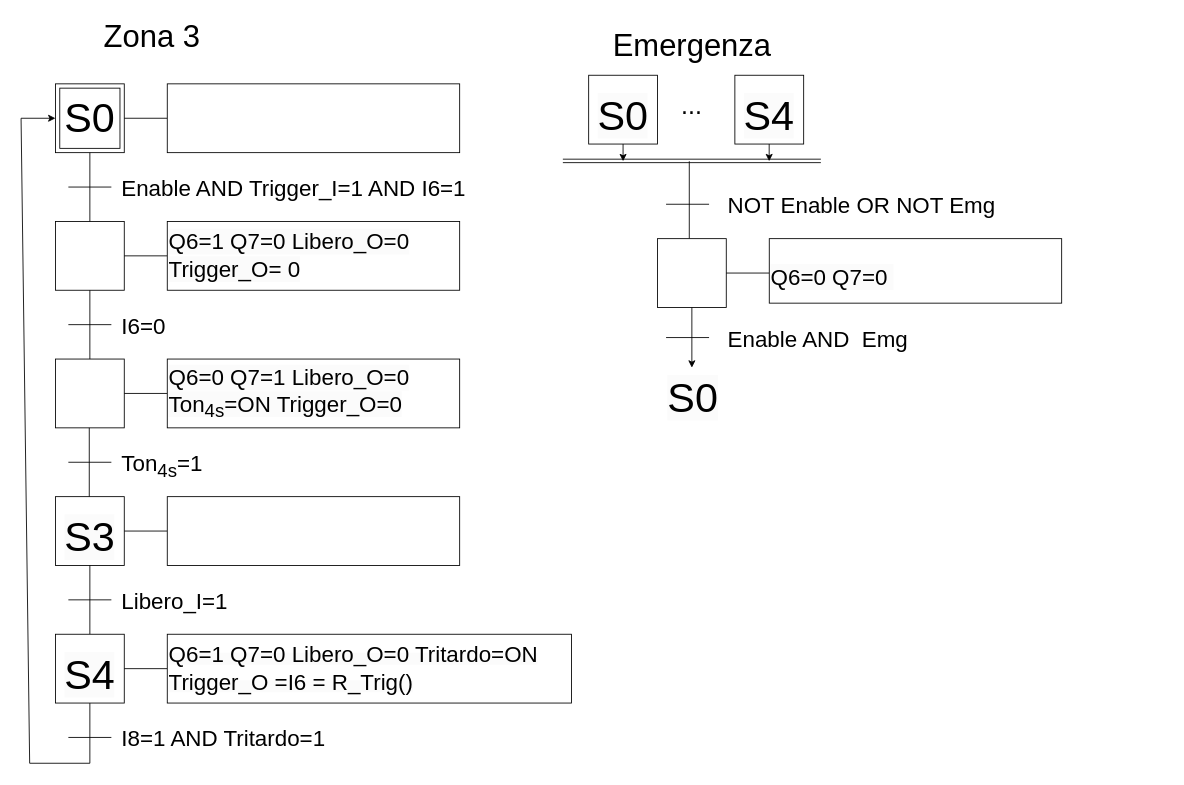
This 1184x785 diagram has some shape labels left out. The shapes that lost their labels are listed below. From the top down, each one's box as (x1, y1, x2, y2) in pixels, then its label:
(166, 83, 460, 153): Q6=0 Q7=0 Libero_O=1 Trigger_O = 0
(55, 221, 124, 290): S1
(657, 238, 726, 307): SE
(55, 358, 124, 428): S2
(166, 496, 460, 565): Q6=0 Q7=0 Libero=0 Trigger_O=0
